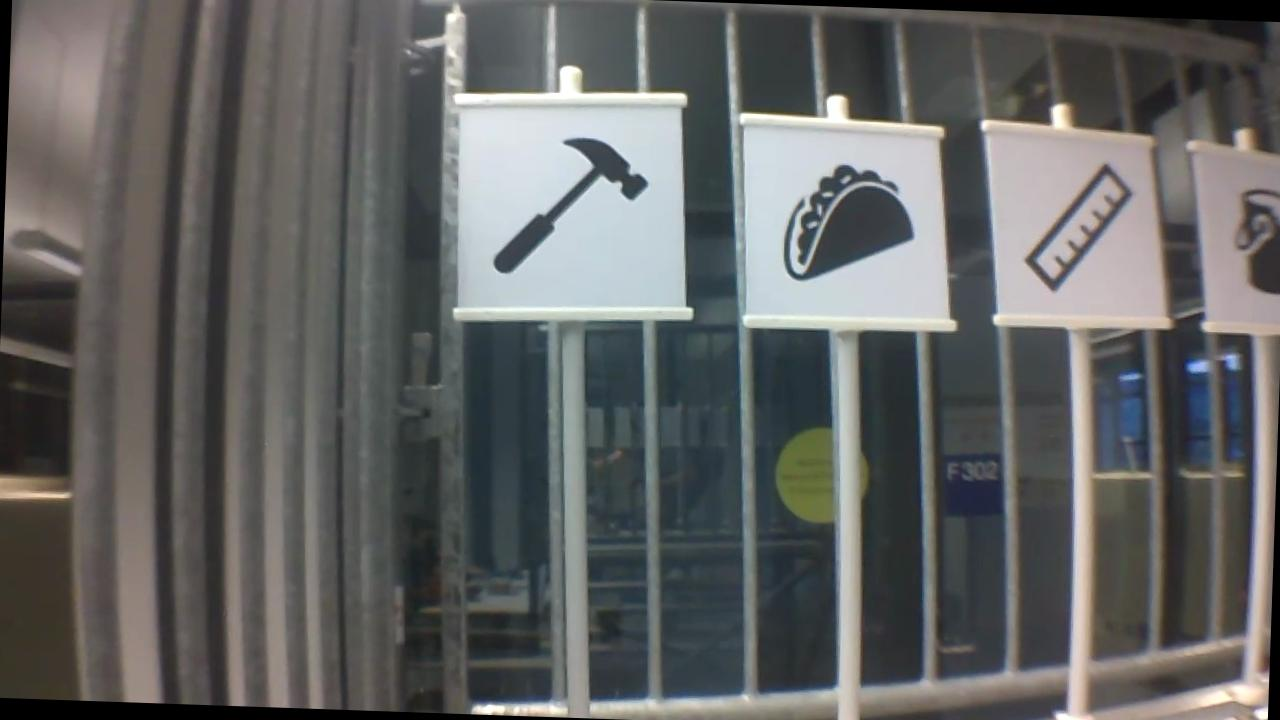bucket: (1225, 182, 1280, 298)
hammer: (481, 127, 651, 283)
ruler: (1017, 151, 1139, 299)
taco: (775, 154, 922, 286)
